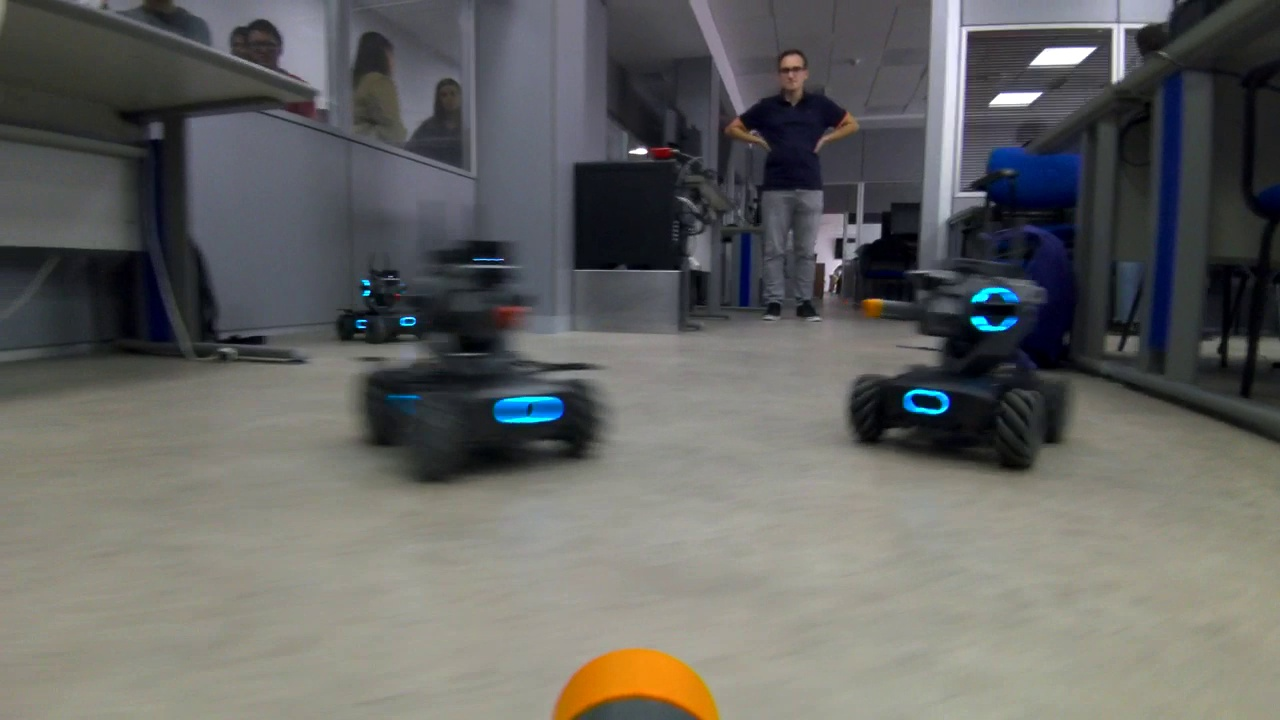robot: (846, 218, 1088, 470), (335, 263, 444, 348)
